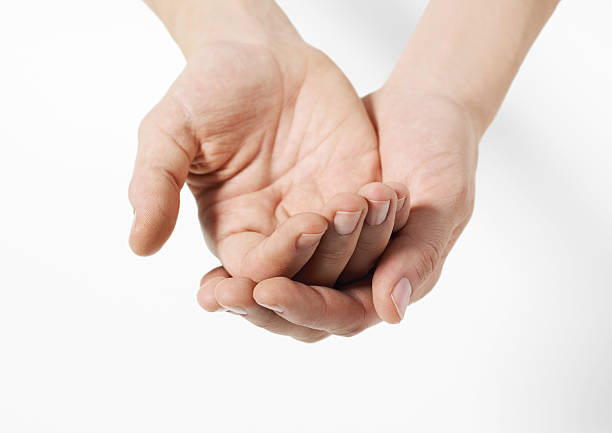non-diseased: (169, 44, 473, 331)
